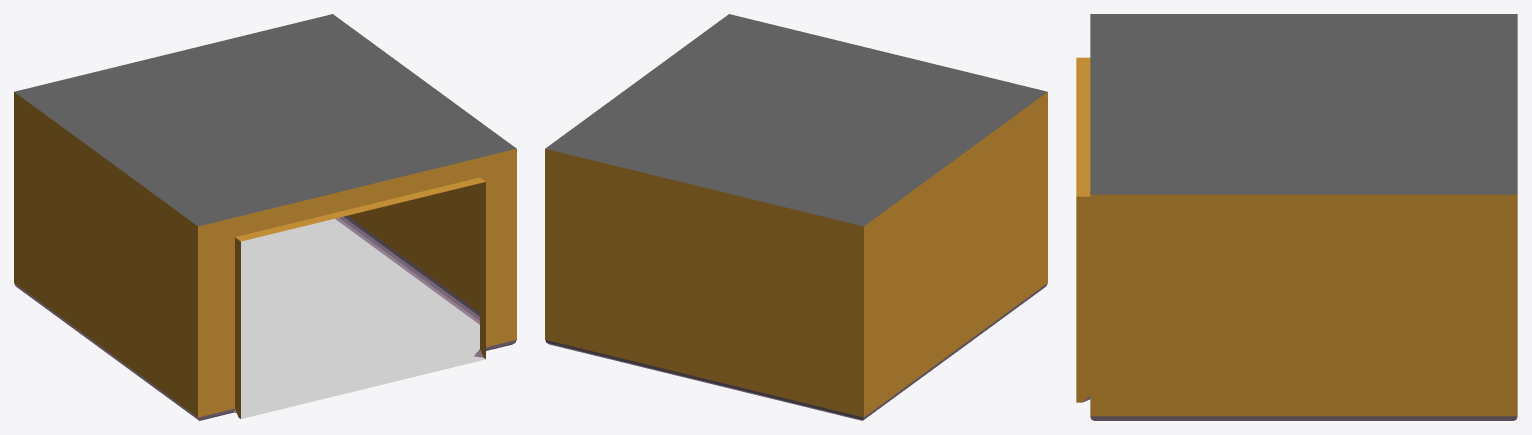
The model's file is simpleRoom1.fbx.
3 views of the same model, side by side, from view 1: azimuth 30°, elevation 25°; view 2: azimuth 150°, elevation 25°; view 3: azimuth 270°, elevation 25° (orthographic). The views are drawn at different scales.
Visible parts, largest first — view 1: Plane; view 2: Plane; view 3: Plane.
Boxes of the visible parts, x1=… form: Plane: x1=14, y1=14, x2=516, y2=420; Plane: x1=545, y1=14, x2=1047, y2=420; Plane: x1=1076, y1=14, x2=1517, y2=420.
Size of the model in its own units: 845 by 500 by 873.
